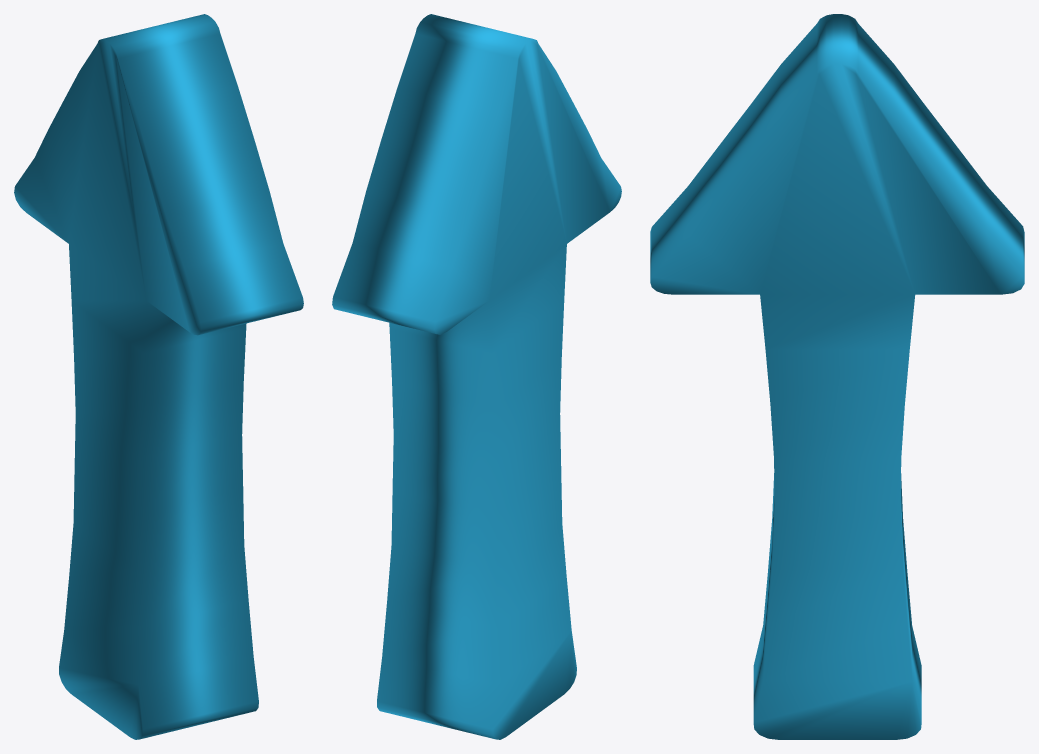
The model's file is Arrow.fbx.
3 views of the same model, side by side, from view 1: azimuth 30°, elevation 25°; view 2: azimuth 150°, elevation 25°; view 3: azimuth 270°, elevation 25° (orthographic).
Visible parts, largest first — view 1: Cube.003; view 2: Cube.003; view 3: Cube.003.
Boxes of the visible parts, box(x1,y1,x2,y2) form: Cube.003: box(14, 14, 303, 739); Cube.003: box(332, 14, 621, 739); Cube.003: box(650, 14, 1024, 739).
Bounding box in the file's own units: 0.0909 × 0.5015 × 0.2532.
